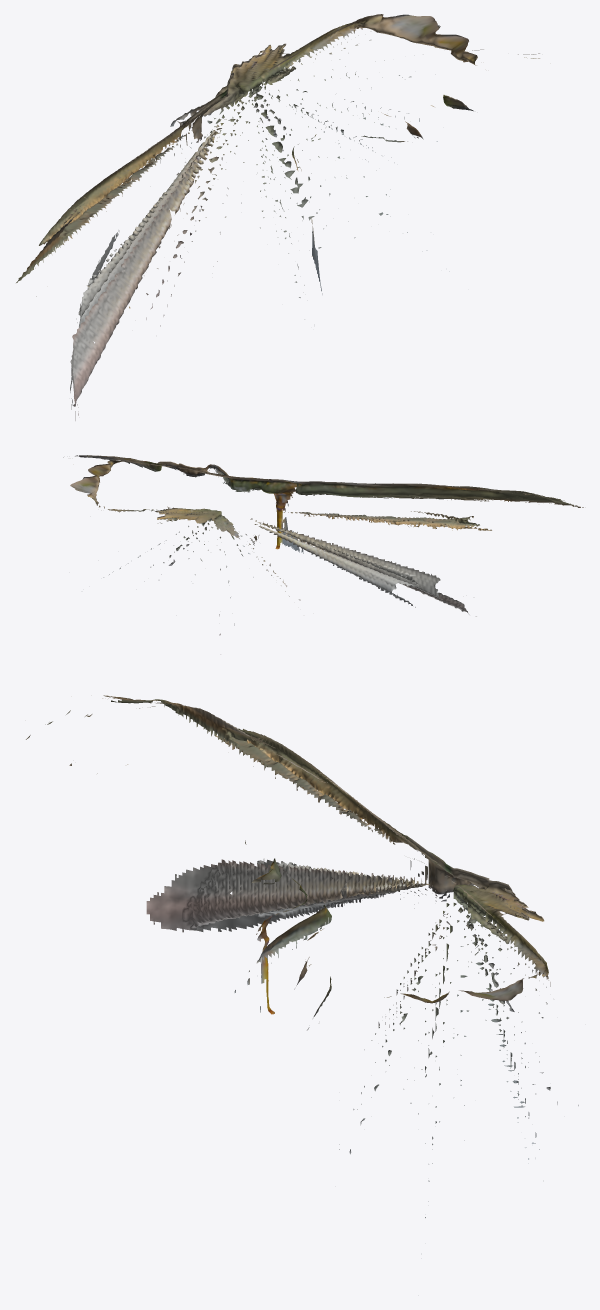
The model's file is paris-riverside-collider.glb.
3 renders of one model, top to bottom at view 1: azimuth 30°, elevation 25°; view 2: azimuth 150°, elevation 25°; view 3: azimuth 270°, elevation 25°, orthographic. The views are drawn at different scales.
Visible parts, largest first — view 1: world; view 2: world; view 3: world.
Part boxes in pixels (box(x1,y1,x2,y2)): world: box(16, 14, 539, 420); world: box(63, 455, 583, 654); world: box(26, 695, 578, 1217).
Bounding box in the file's own units: 178 × 66.05 × 110.
